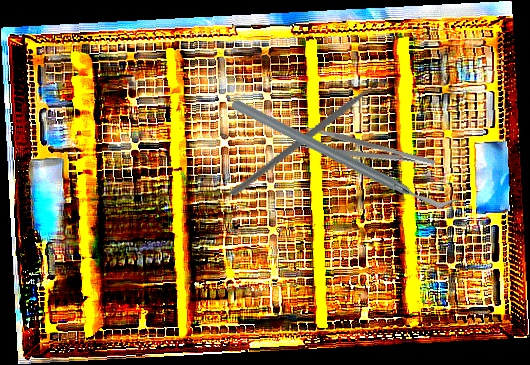Chopper: (227, 30, 461, 278), (229, 44, 397, 236)
Dressing Forceps: (301, 125, 436, 180)
